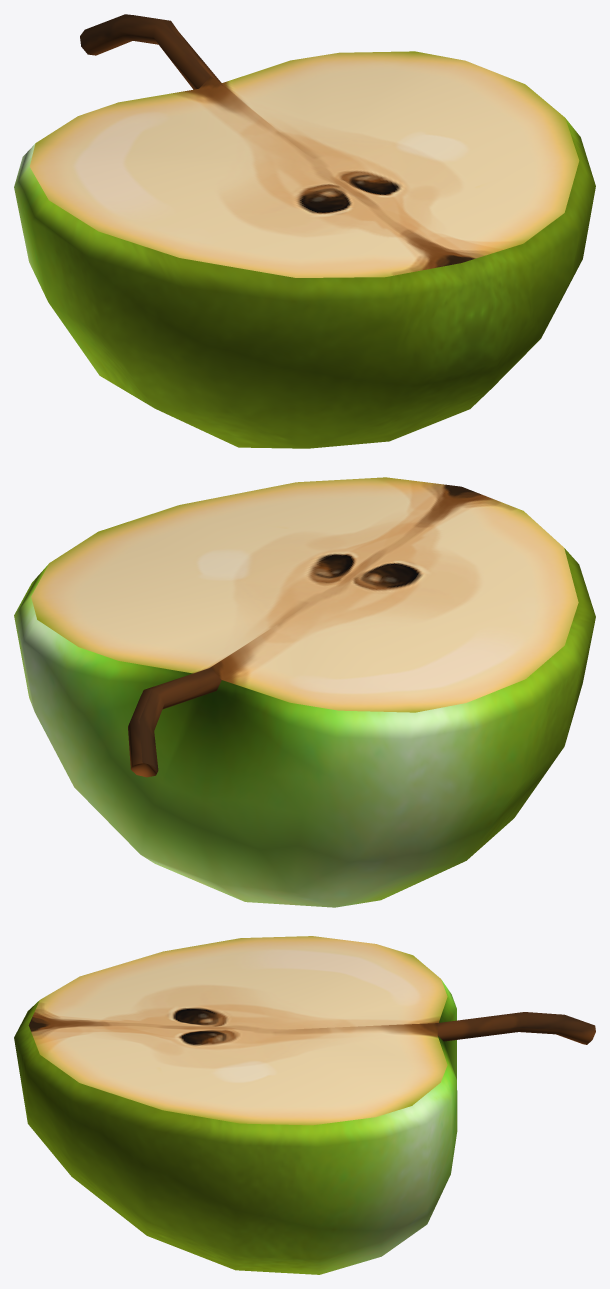
File: 002-GrnApple_GrapefruitHalf.FBX
3 views of the same model, one above another, from view 1: azimuth 30°, elevation 25°; view 2: azimuth 150°, elevation 25°; view 3: azimuth 270°, elevation 25° (orthographic). The views are drawn at different scales.
Visible parts, largest first — view 1: 002-GrnApple_GrapefruitHalf; view 2: 002-GrnApple_GrapefruitHalf; view 3: 002-GrnApple_GrapefruitHalf.
Boxes of the visible parts, <box> form: 002-GrnApple_GrapefruitHalf: <box>14,14,595,448</box>; 002-GrnApple_GrapefruitHalf: <box>14,477,595,907</box>; 002-GrnApple_GrapefruitHalf: <box>14,936,595,1274</box>.
Size of the model in its own units: 10.84 by 6.12 by 13.35.
